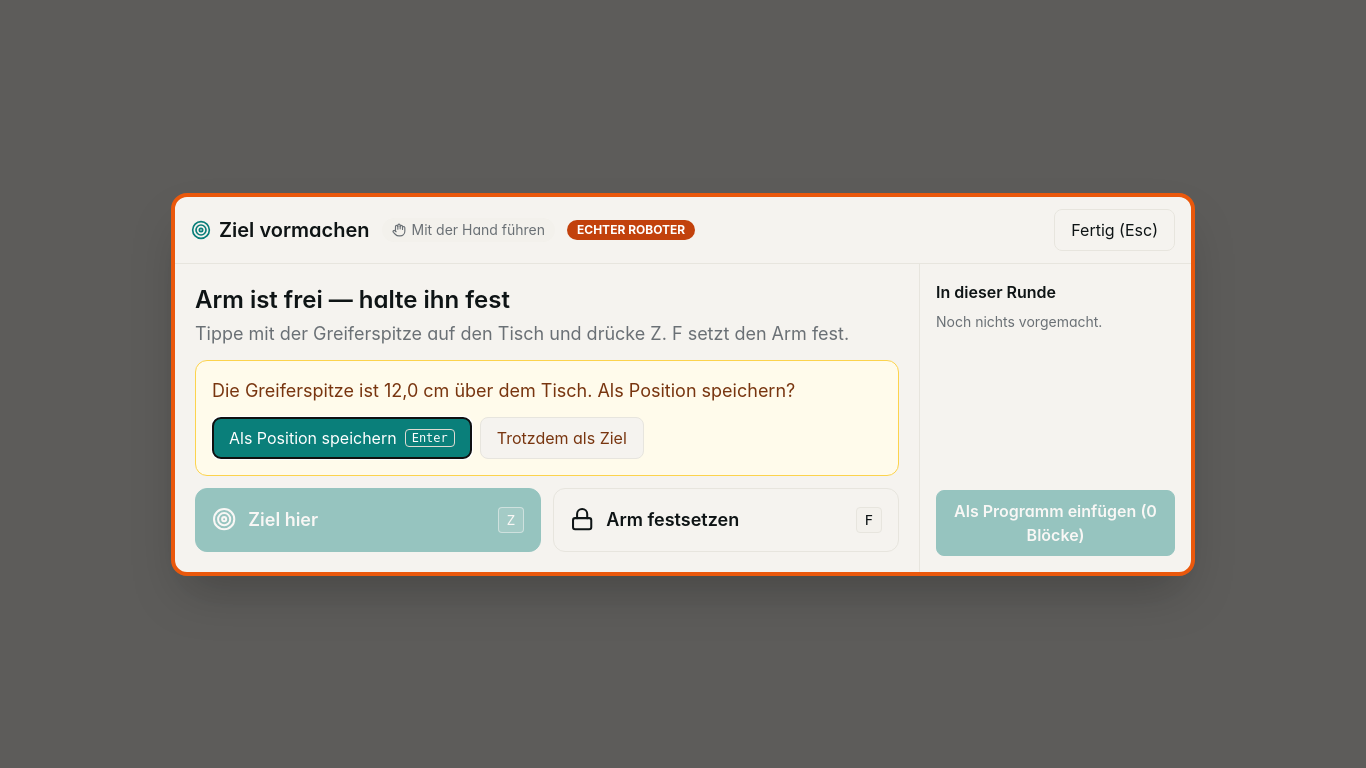
Test: TeachOverlay — Ziel by touch: too high asks „Als Position speichern?" › „Trotzdem als Ziel" stores a Ziel under its own name
The image size is (1366, 768).
What coordinates should you click on to do the following:
click the button "Trotzdem als Ziel"
I would click on:
 (562, 438)
Its box is [480,416,644,458].
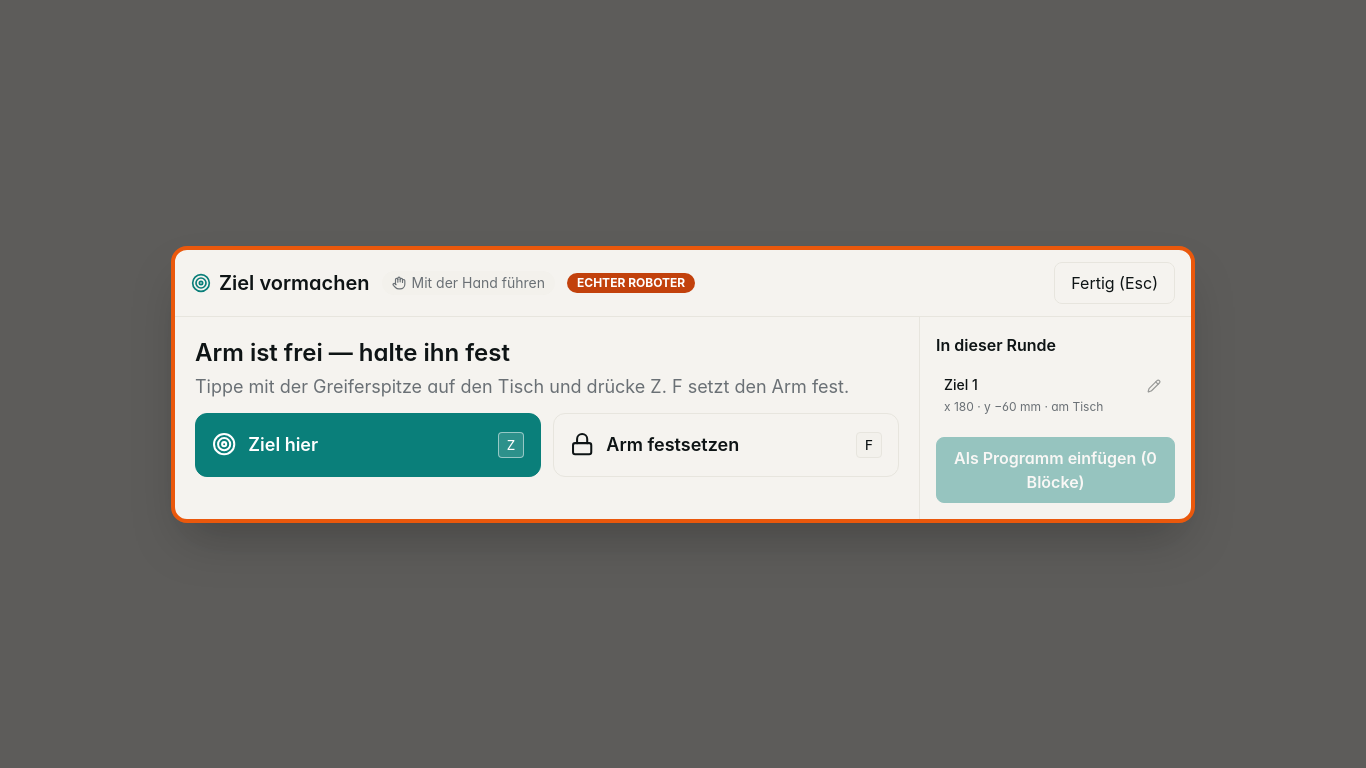
expect the list item with test id "teach-item-ziel" is shown: met, box [936,364,1175,420]
